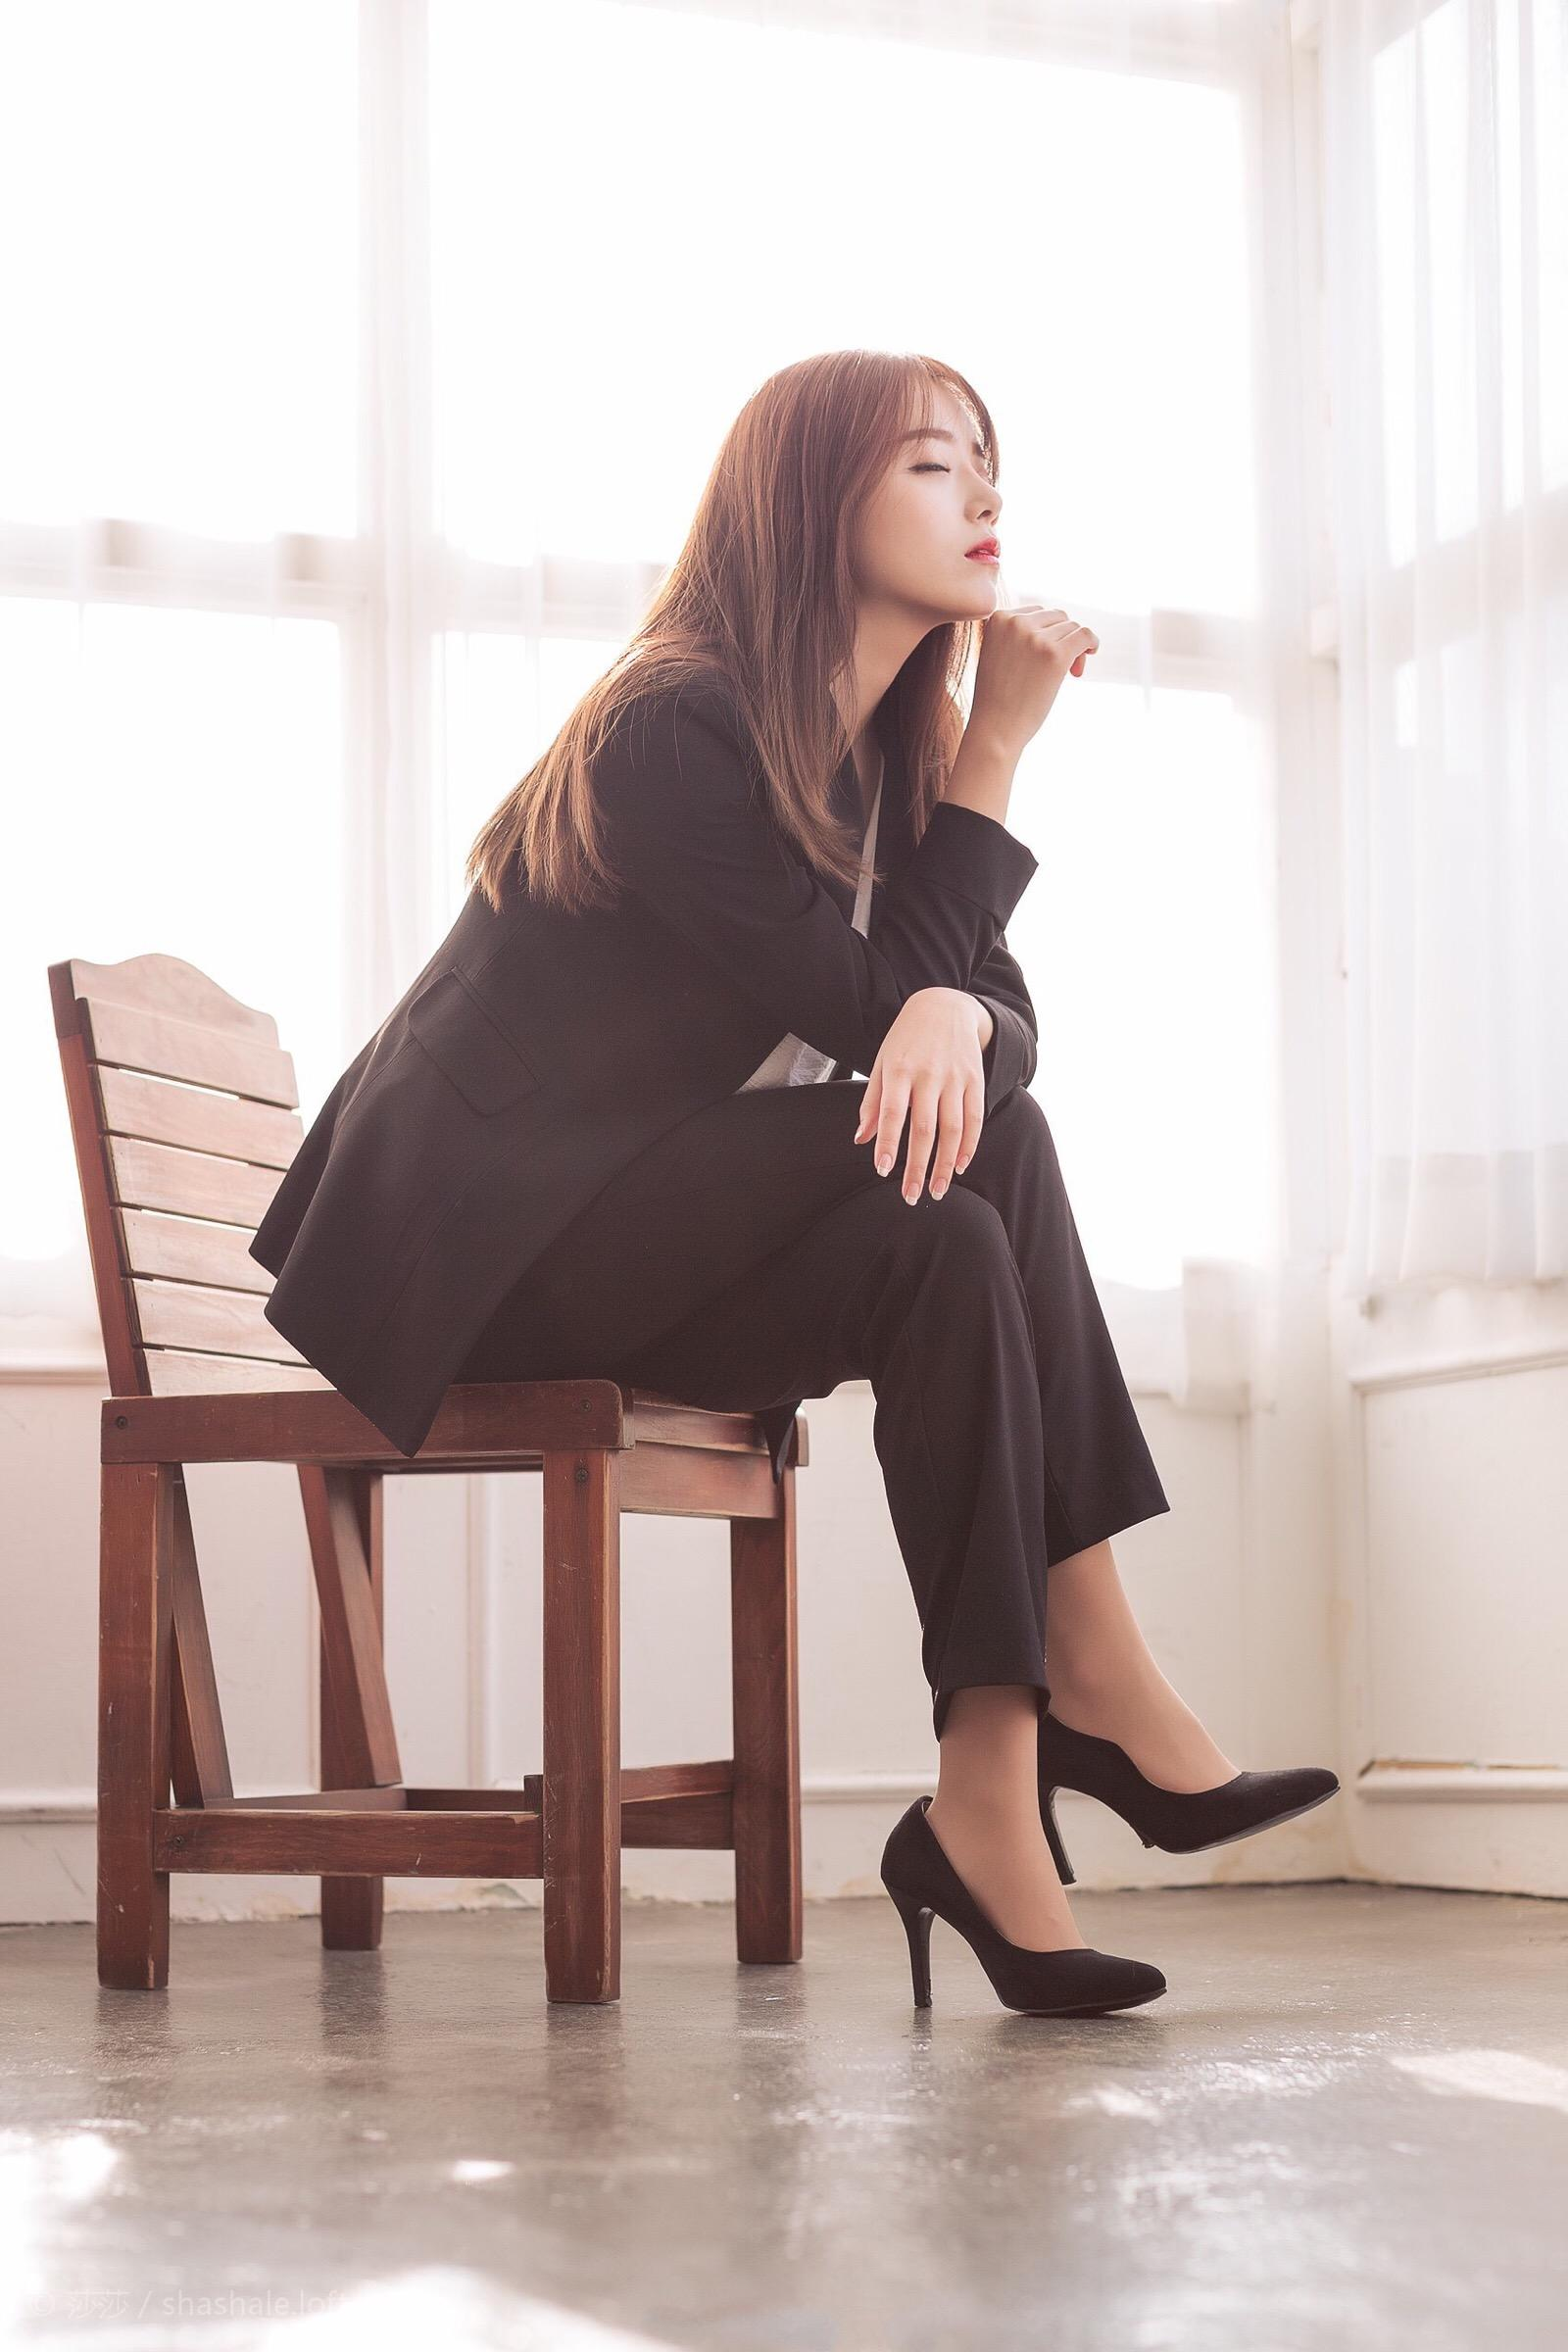person: (380, 321, 1325, 1786)
